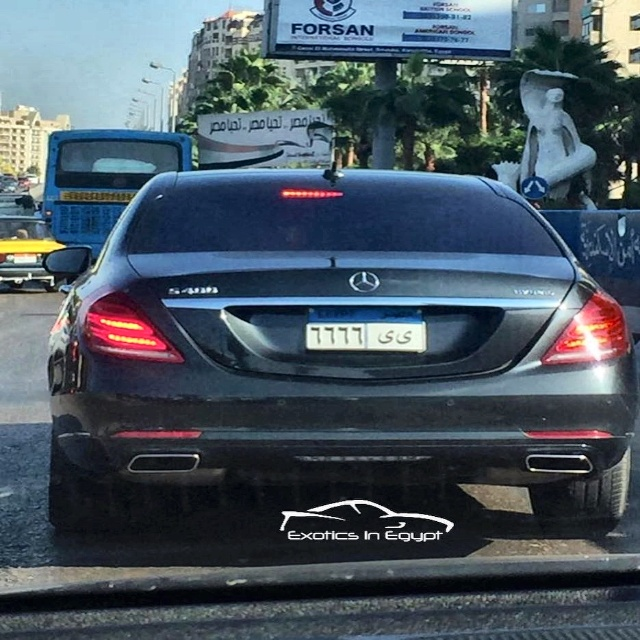License Plate: (304, 302, 427, 354)
